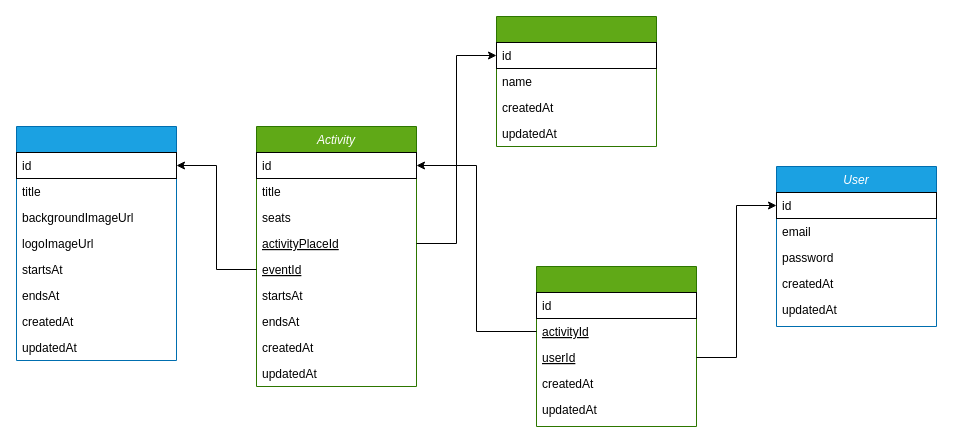
Image size: 953x443. Some labels were removed from this diagram. The shapes that lost their labels are listed below. From the top down, each one's box as (x1, y1, x2, y2) in pixels, then its label:
(496, 16, 656, 146): ActivityPlace
(16, 126, 176, 360): Event
(536, 266, 696, 426): ActivityBooking
